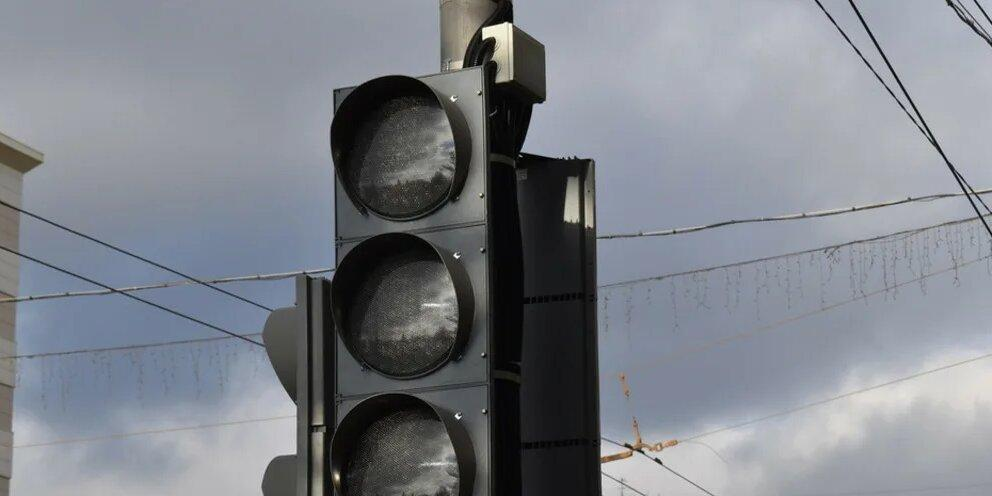off traffic light: (330, 66, 489, 495), (261, 276, 334, 495)
